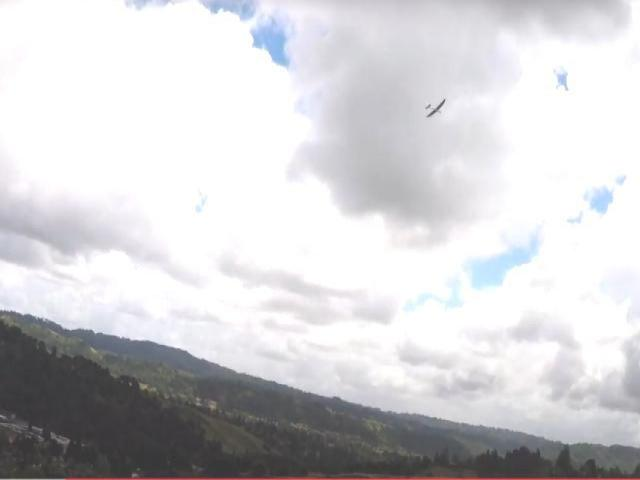iha: (424, 97, 446, 119)
